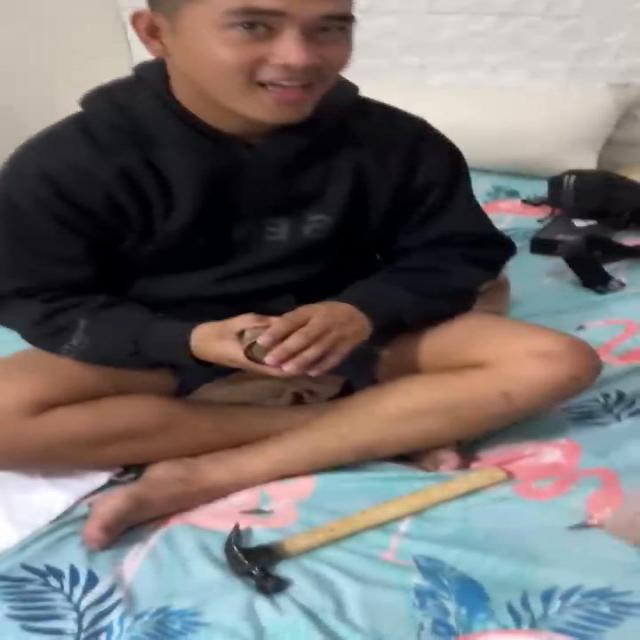hammer: (222, 465, 514, 596)
